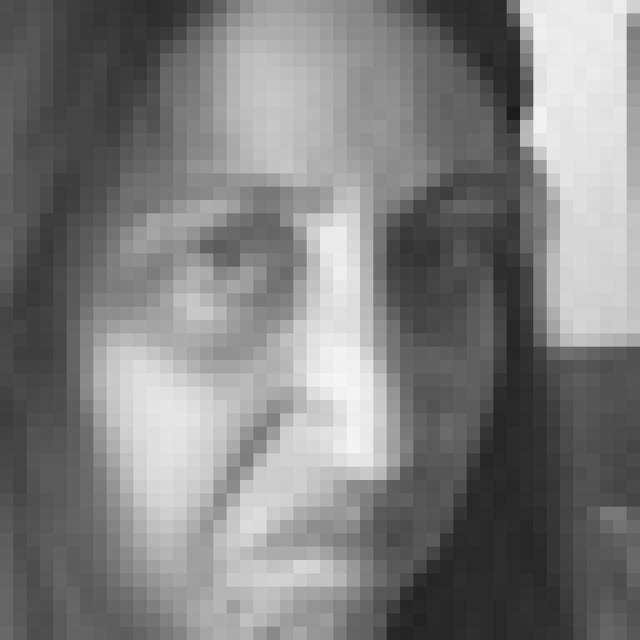disgust: (125, 171, 503, 614)
